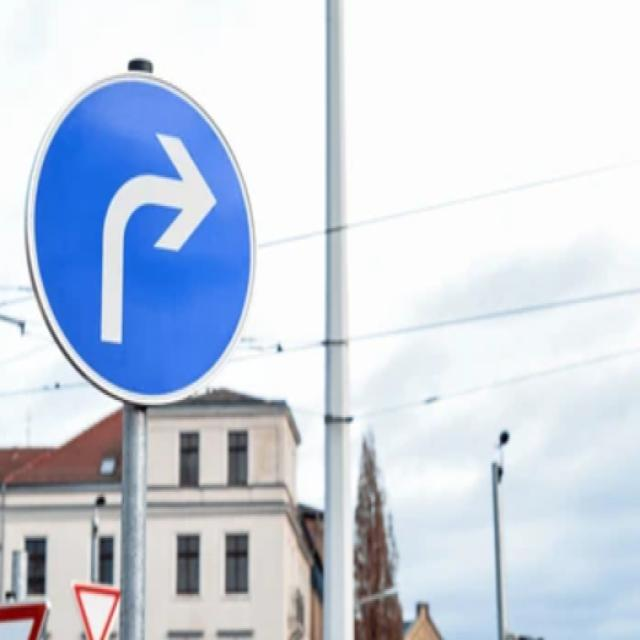RIGHT: (26, 73, 254, 403)
